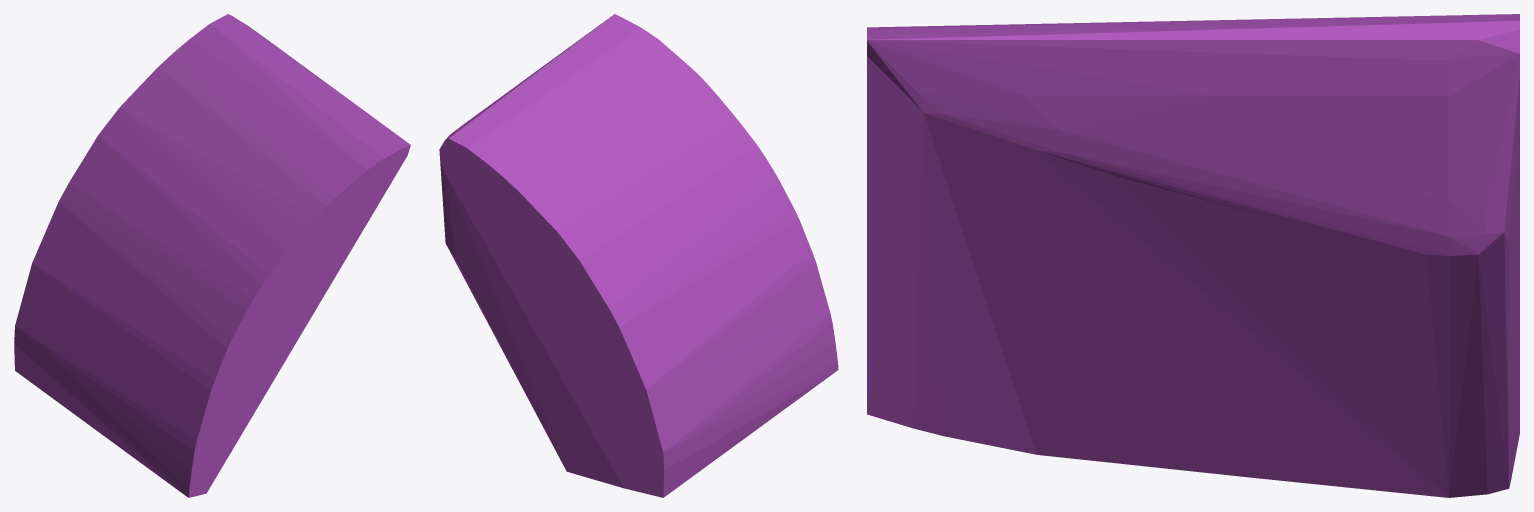
The model's file is left-shoulder-pitch-0_part_38.obj.
The picture shows the model from 3 angles, left to right: view 1: azimuth 30°, elevation 25°; view 2: azimuth 150°, elevation 25°; view 3: azimuth 270°, elevation 25°; orthographic projection. The views are drawn at different scales.
Bounding box in the file's own units: 0.0256 × 0.033 × 0.0341.
